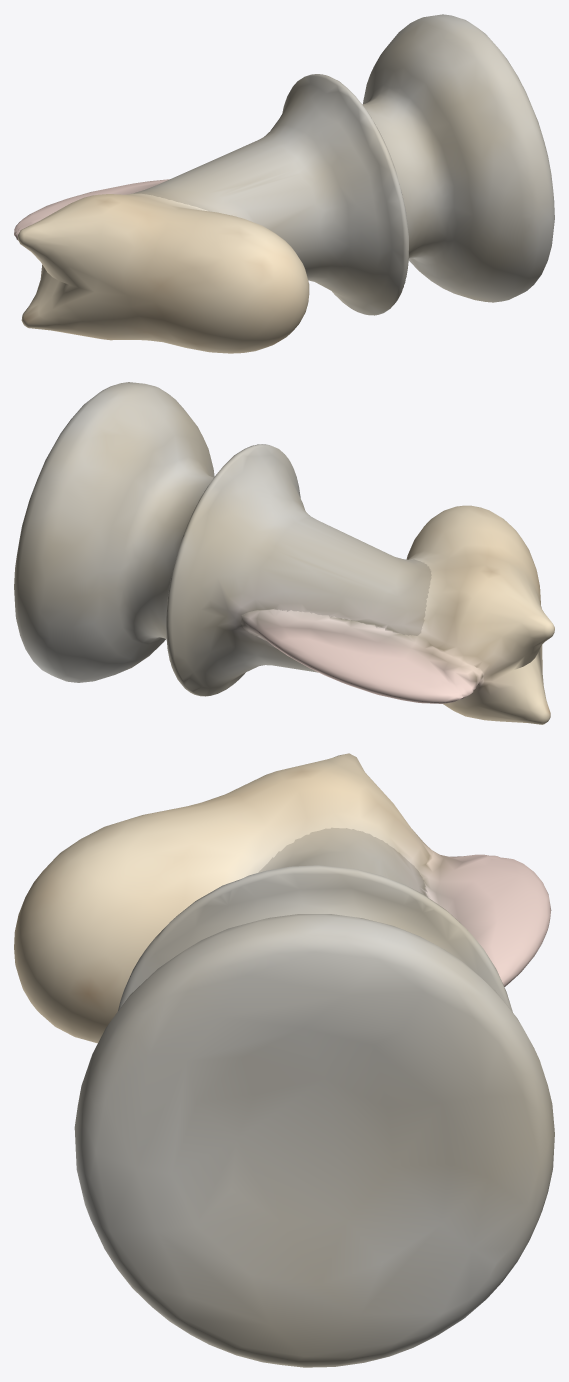
The model's file is knight-light-fallen.glb.
The picture shows the model from 3 angles, top to bottom: view 1: azimuth 30°, elevation 25°; view 2: azimuth 150°, elevation 25°; view 3: azimuth 270°, elevation 25°; orthographic projection. The views are drawn at different scales.
Visible parts, largest first — view 1: body; view 2: body; view 3: body.
Boxes of the visible parts, x1,y1,x2,y2 form: body: (14,14,554,353); body: (14,382,554,724); body: (14,753,554,1367).
Bounding box in the file's own units: 3.93 × 2.15 × 2.43.
